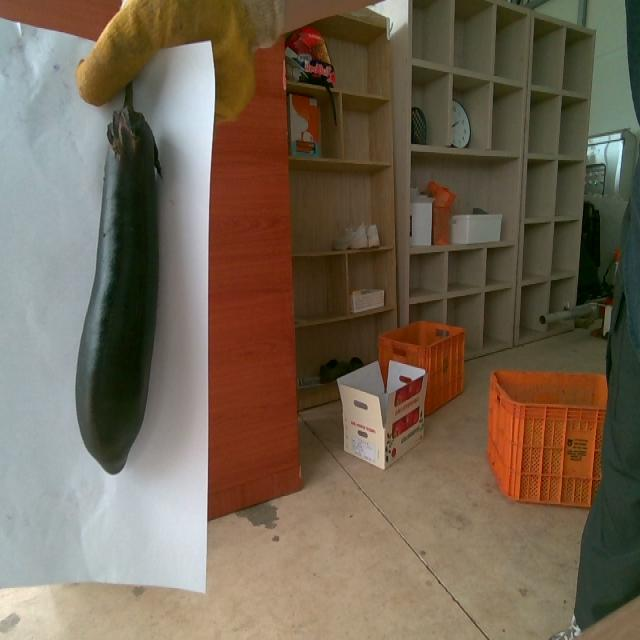Egg plant: (75, 83, 161, 473)
